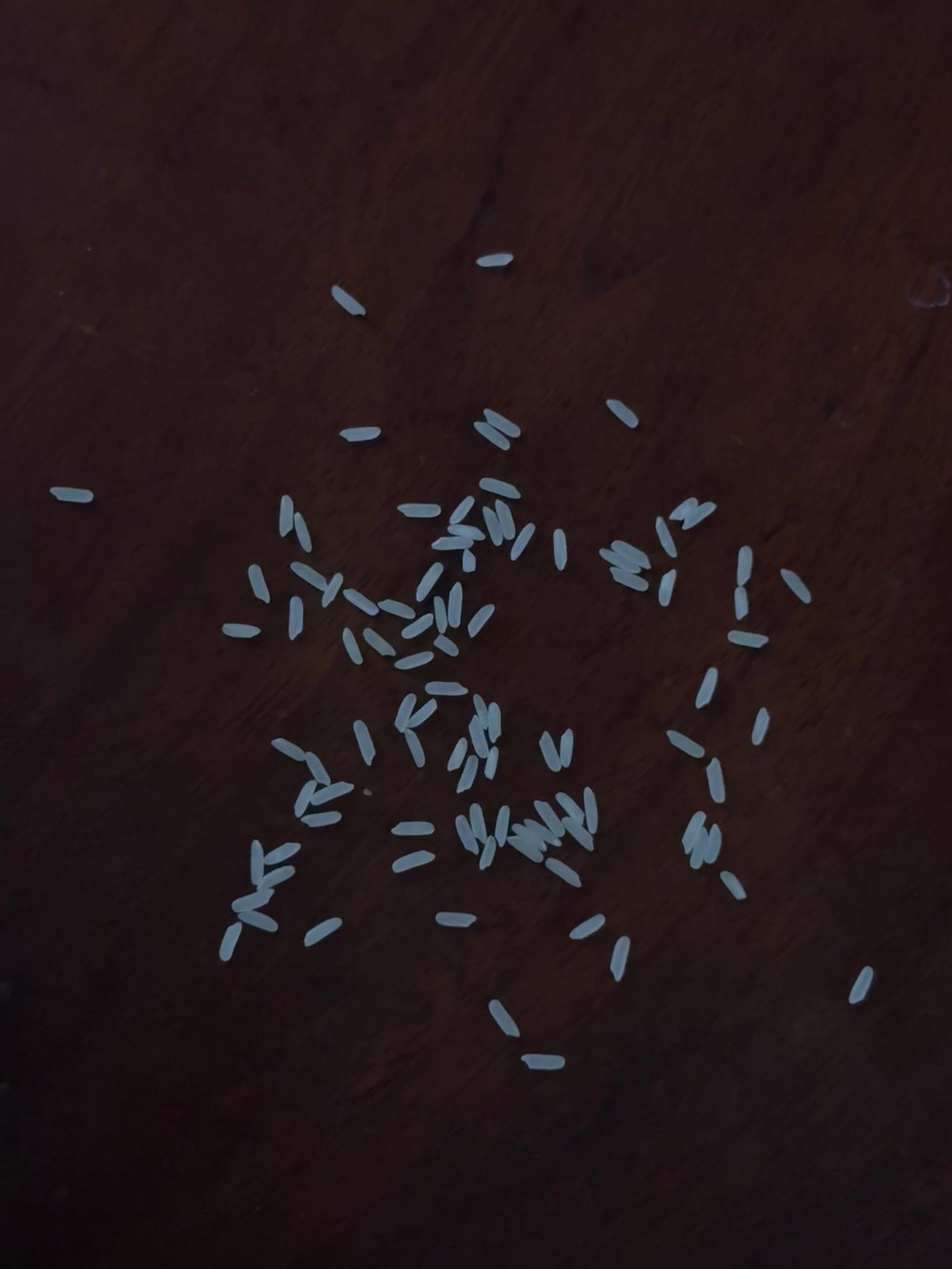Rice-th-y-nh: (487, 999, 520, 1038), (533, 799, 565, 839), (290, 560, 329, 592), (612, 539, 652, 570), (414, 562, 444, 602), (302, 917, 342, 947), (779, 569, 813, 604), (231, 888, 275, 915), (522, 817, 560, 848), (562, 816, 595, 851), (545, 856, 582, 887), (599, 547, 641, 574), (666, 729, 705, 758), (579, 787, 603, 834), (352, 719, 377, 764), (473, 421, 511, 450), (483, 409, 521, 438), (506, 834, 544, 863), (605, 398, 639, 429), (217, 922, 244, 961), (555, 791, 585, 826), (331, 286, 366, 316), (479, 476, 521, 501), (311, 781, 353, 806), (681, 811, 706, 853), (343, 588, 379, 617), (609, 566, 649, 592), (493, 499, 519, 539), (467, 715, 491, 758), (509, 522, 536, 560), (694, 668, 719, 709), (362, 627, 396, 657), (682, 502, 717, 531), (512, 823, 547, 852), (454, 815, 480, 854), (480, 506, 505, 546), (705, 758, 727, 803), (275, 495, 298, 538), (445, 582, 466, 629), (466, 604, 495, 638), (538, 731, 562, 772), (304, 751, 332, 786), (256, 865, 295, 890), (392, 850, 434, 873), (569, 914, 606, 940), (848, 967, 874, 1004), (406, 699, 438, 729), (393, 693, 417, 733), (247, 839, 267, 887), (293, 779, 317, 818), (654, 518, 678, 557), (247, 564, 271, 603), (404, 728, 427, 767), (456, 756, 480, 793), (340, 628, 364, 665), (238, 910, 278, 932), (610, 936, 630, 980), (467, 803, 489, 843), (263, 842, 301, 865), (656, 568, 679, 606), (727, 629, 768, 650), (703, 823, 724, 864), (423, 679, 468, 698), (734, 546, 755, 586), (550, 528, 570, 570), (378, 598, 416, 620), (401, 614, 434, 639), (493, 805, 513, 846), (485, 702, 505, 743), (395, 650, 434, 671), (448, 496, 475, 526), (720, 870, 747, 900), (397, 501, 442, 519), (271, 738, 306, 761), (293, 513, 313, 553), (287, 595, 305, 639), (391, 819, 435, 837), (321, 573, 344, 607), (447, 522, 486, 542), (689, 833, 710, 869), (751, 708, 771, 745), (731, 585, 752, 620), (447, 737, 468, 771), (431, 535, 473, 552), (434, 911, 476, 928), (471, 693, 491, 728), (301, 811, 342, 828), (431, 596, 449, 634), (478, 836, 498, 870), (221, 622, 261, 639), (339, 426, 381, 442), (669, 498, 698, 521), (558, 729, 575, 767), (433, 634, 459, 657), (484, 746, 501, 780), (460, 549, 478, 573)
